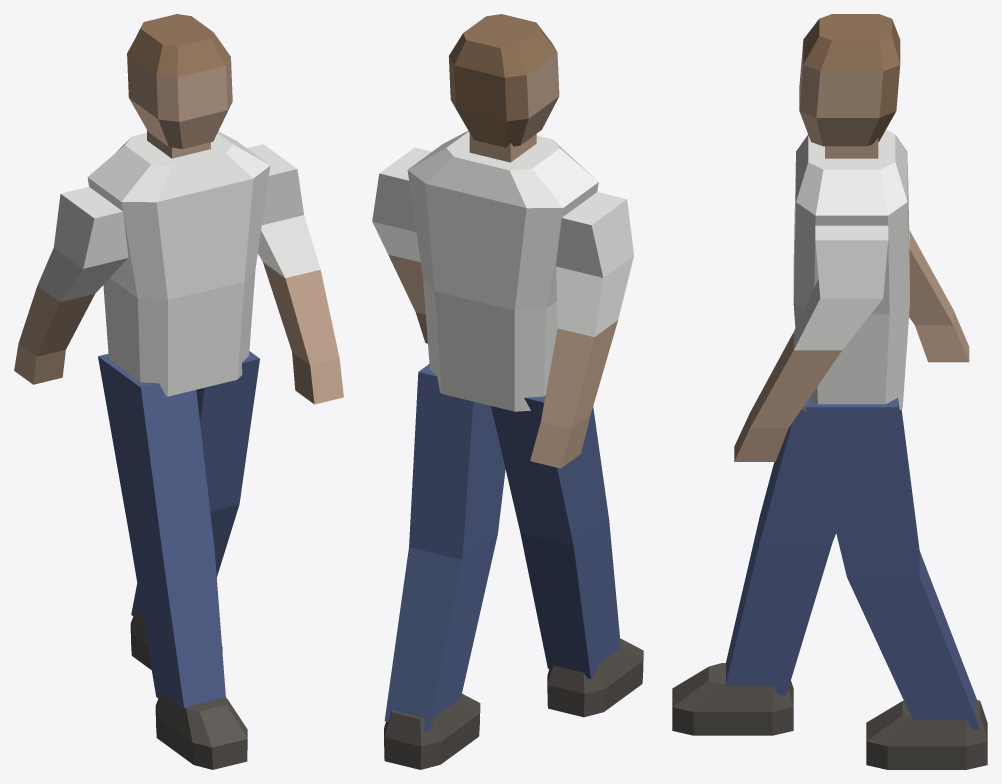
File: pedestrian_1_right.fbx
The picture shows the model from 3 angles, left to right: view 1: azimuth 30°, elevation 25°; view 2: azimuth 150°, elevation 25°; view 3: azimuth 270°, elevation 25°; orthographic projection. The views are drawn at different scales.
Visible parts, largest first — view 1: pedestrian_1_right; view 2: pedestrian_1_right; view 3: pedestrian_1_right.
Boxes of the visible parts, bbox=[...] form: pedestrian_1_right: bbox=[14, 14, 343, 769]; pedestrian_1_right: bbox=[372, 14, 643, 769]; pedestrian_1_right: bbox=[672, 14, 987, 769].
Size of the model in its own units: 0.584 by 1.62 by 0.65.
